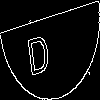D: (25, 25, 51, 76)
